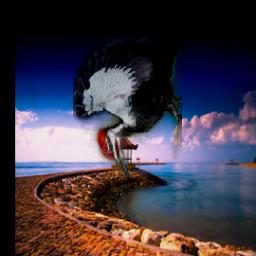Woodpecker: (74, 38, 183, 178)
